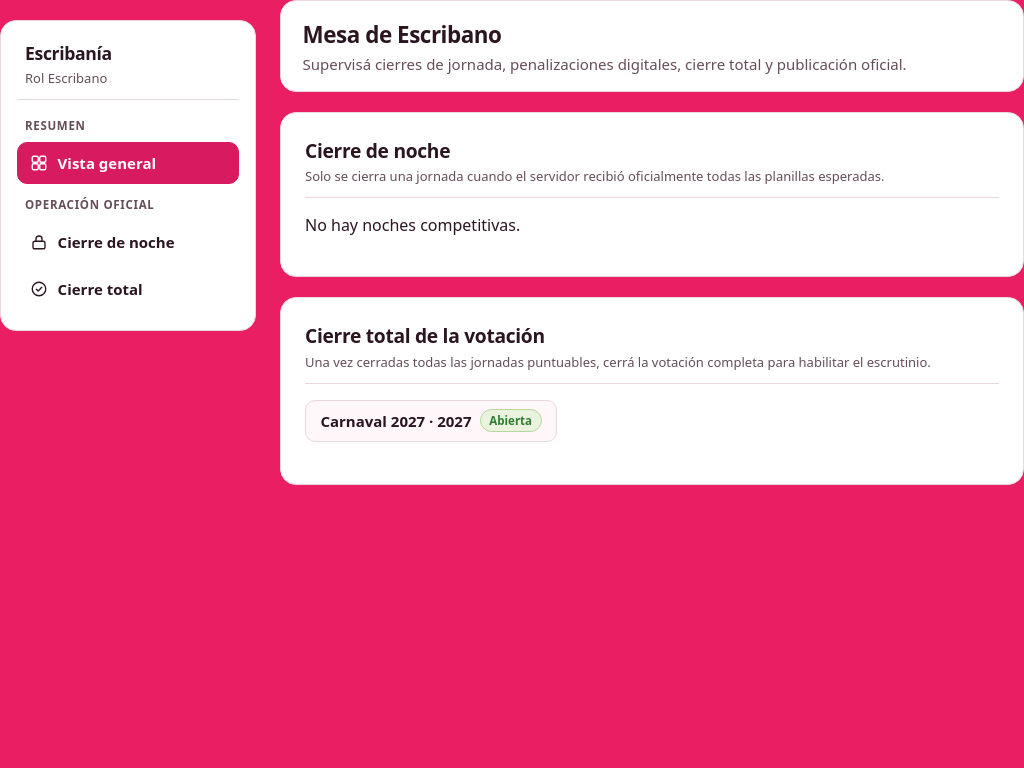
Test: the Escribano sees total-closure blockers and closes voting only after explicit confirmation
Click the button "Carnaval 2027 · 2027 Abierta".
click(431, 421)  # box [305,400,557,442]
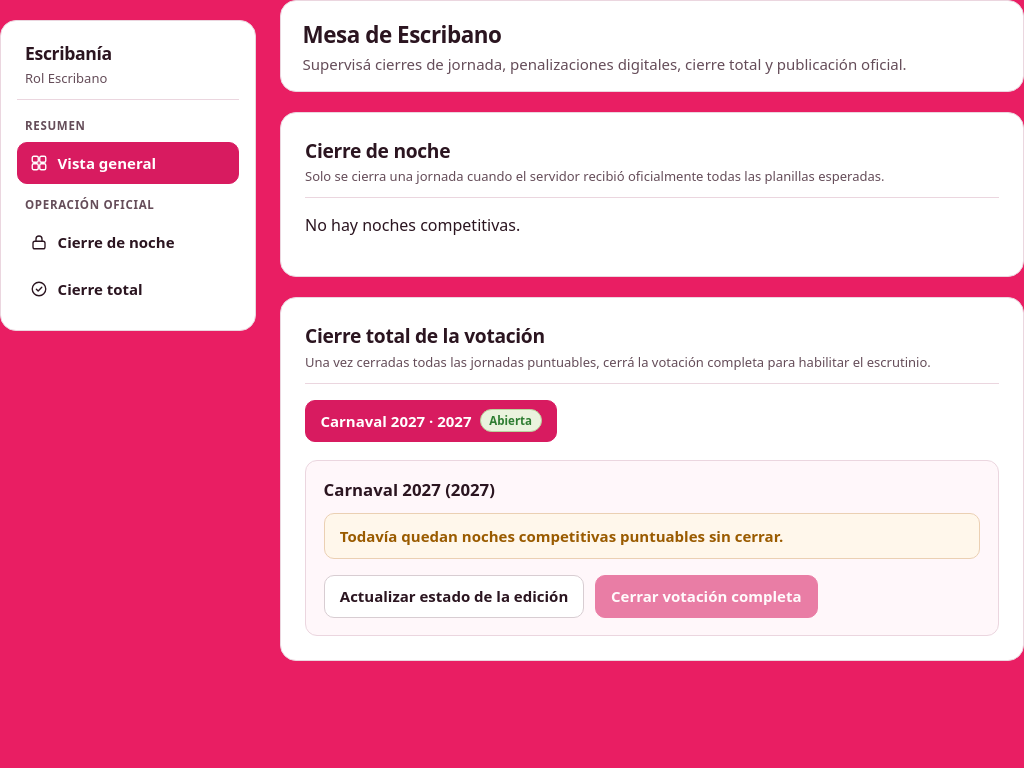
Expected: the text "Todavía quedan noches competitivas puntuables sin cerrar." is shown, [324,513,980,559]
Expected: the button "Cerrar votación completa" is disabled, [595,575,818,618]
Click the button "Actualizar estado de la edición".
click(454, 596)  # box [324,575,584,618]
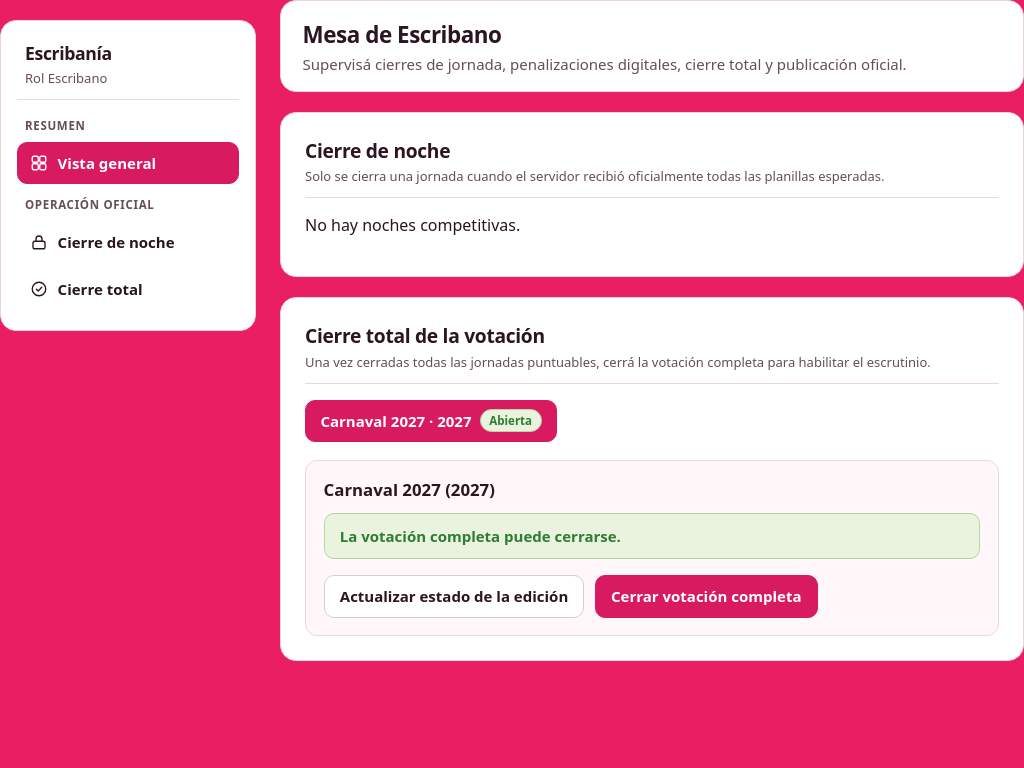
Expected: the text "La votación completa puede cerrarse." is shown, [324,513,980,559]
Expected: the button "Cerrar votación completa" is enabled
Click the button "Cerrar votación completa".
click(706, 596)  # box [595,575,818,618]
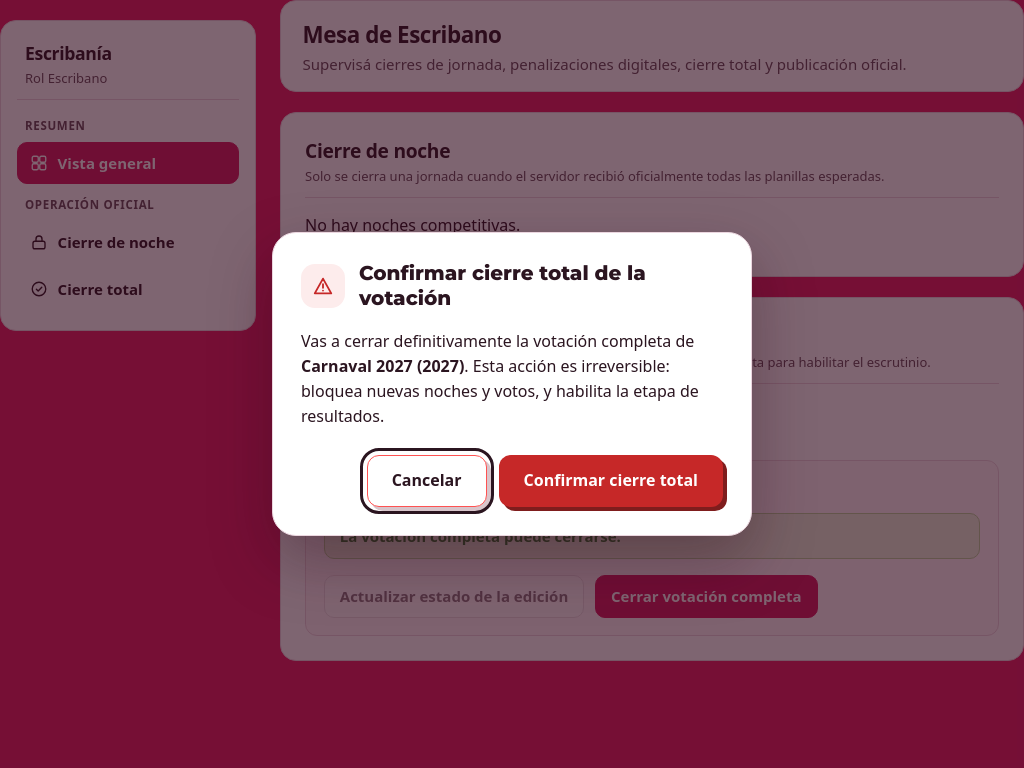
Click the button "Cancelar".
click(427, 481)  # box [367,455,487,507]
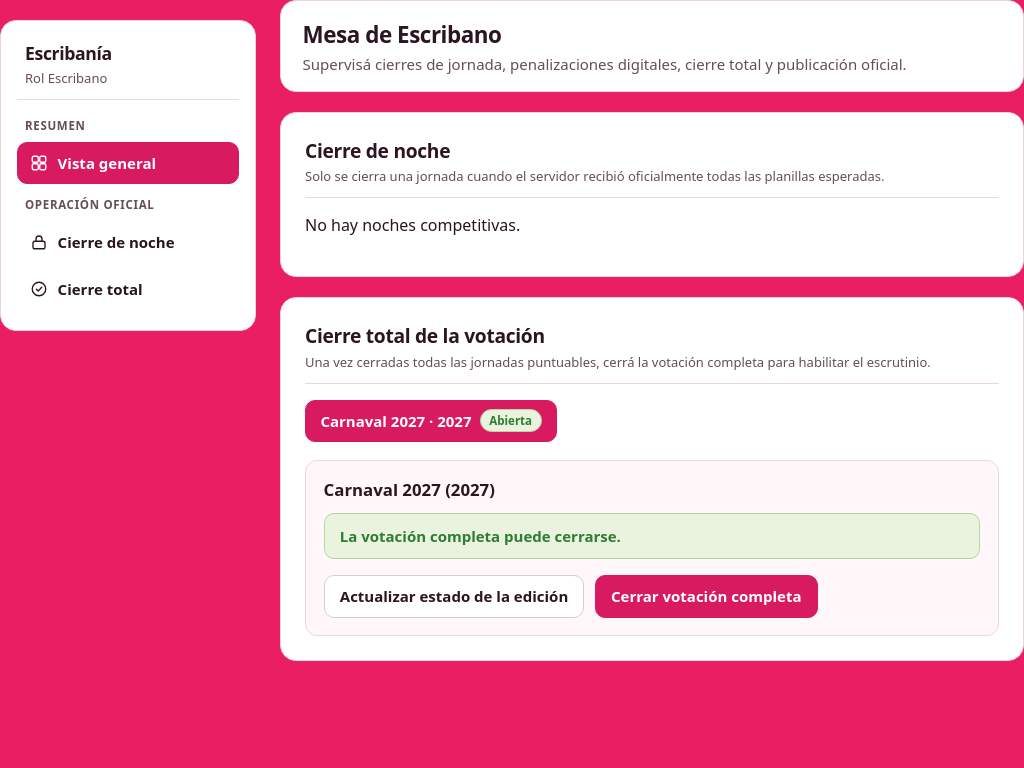
Expected: the dialog is gone
Click the button "Cerrar votación completa".
click(706, 596)  # box [595,575,818,618]
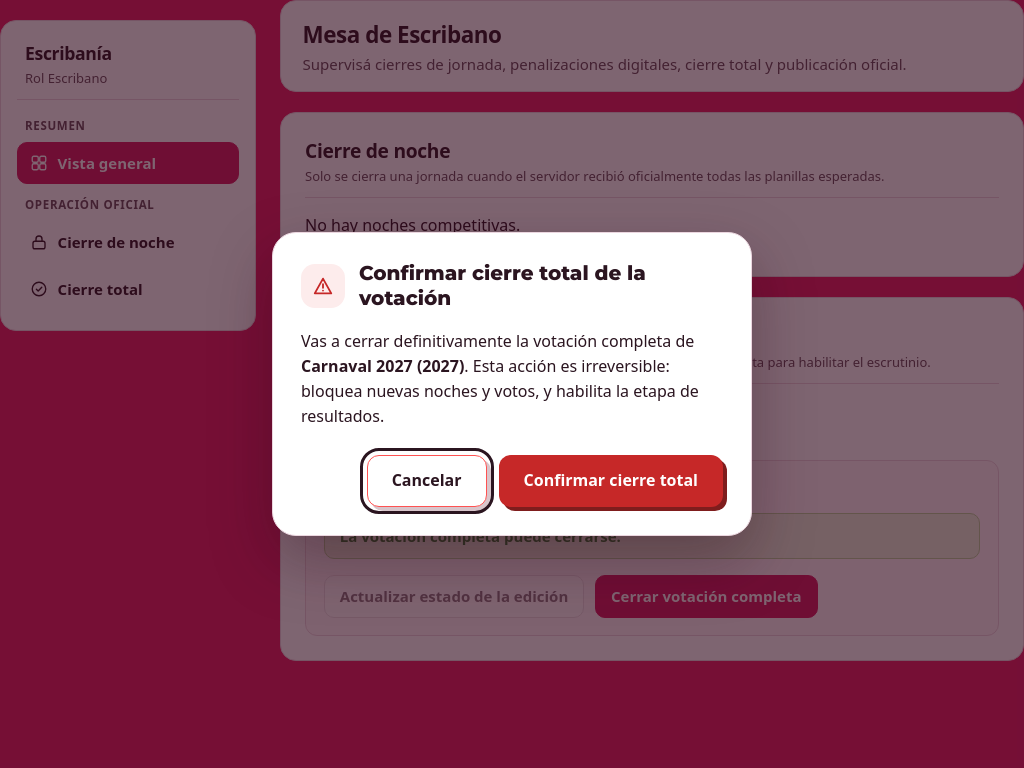
Click the button "Confirmar cierre total".
click(611, 481)  # box [498,455,723,507]
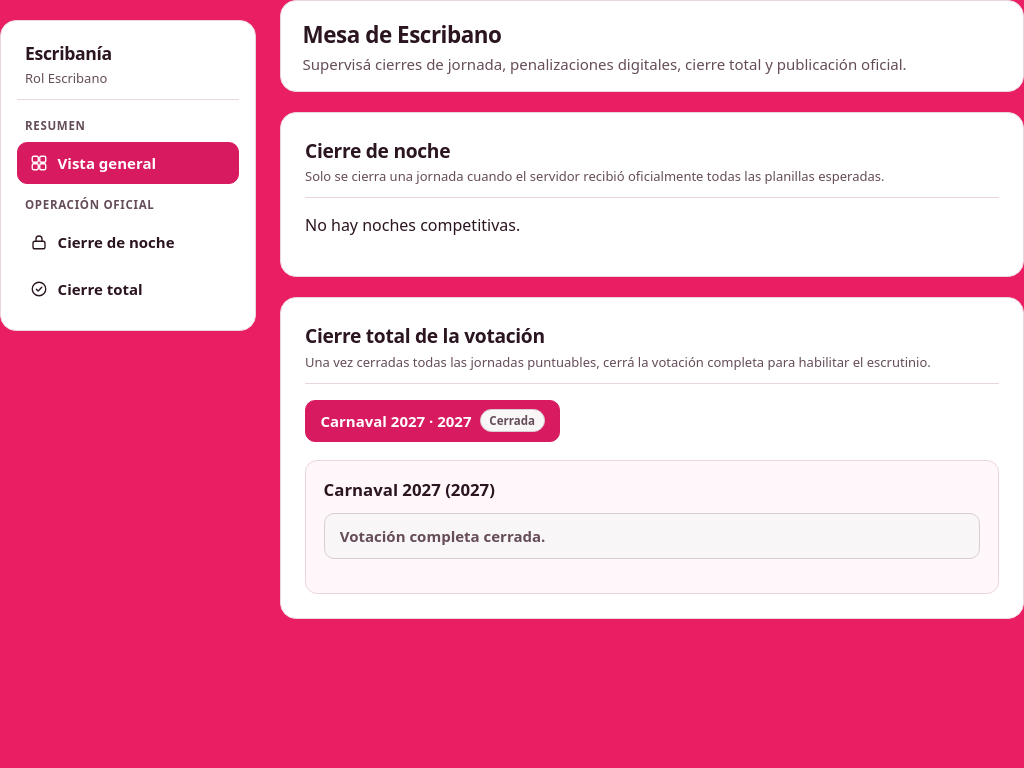
Expected: the text "Votación completa cerrada." is shown, [324,513,980,559]
